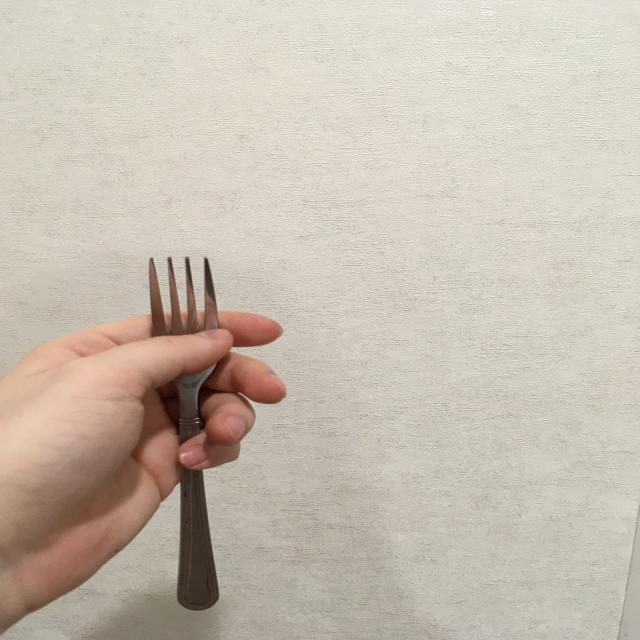fork: (146, 254, 222, 614)
